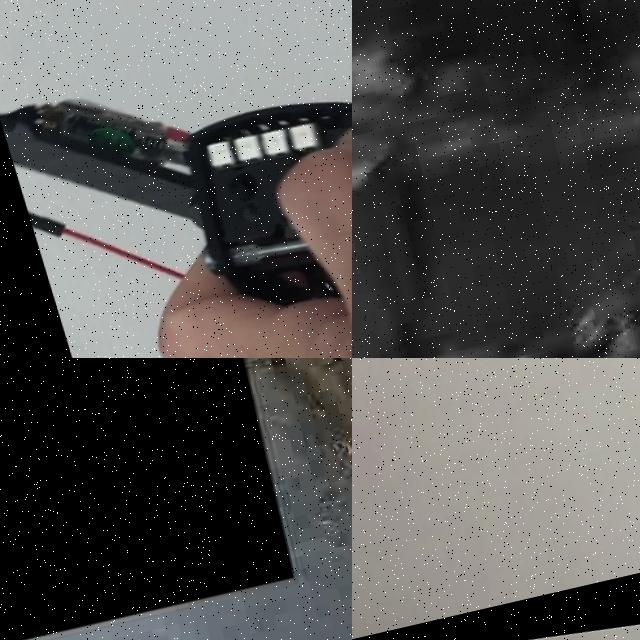drone: (0, 0, 352, 358), (352, 558, 640, 640)
